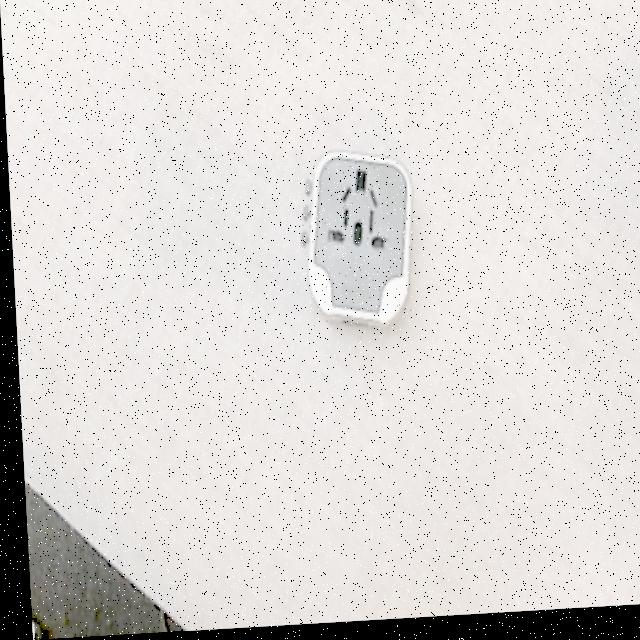adapter: (294, 149, 415, 333)
